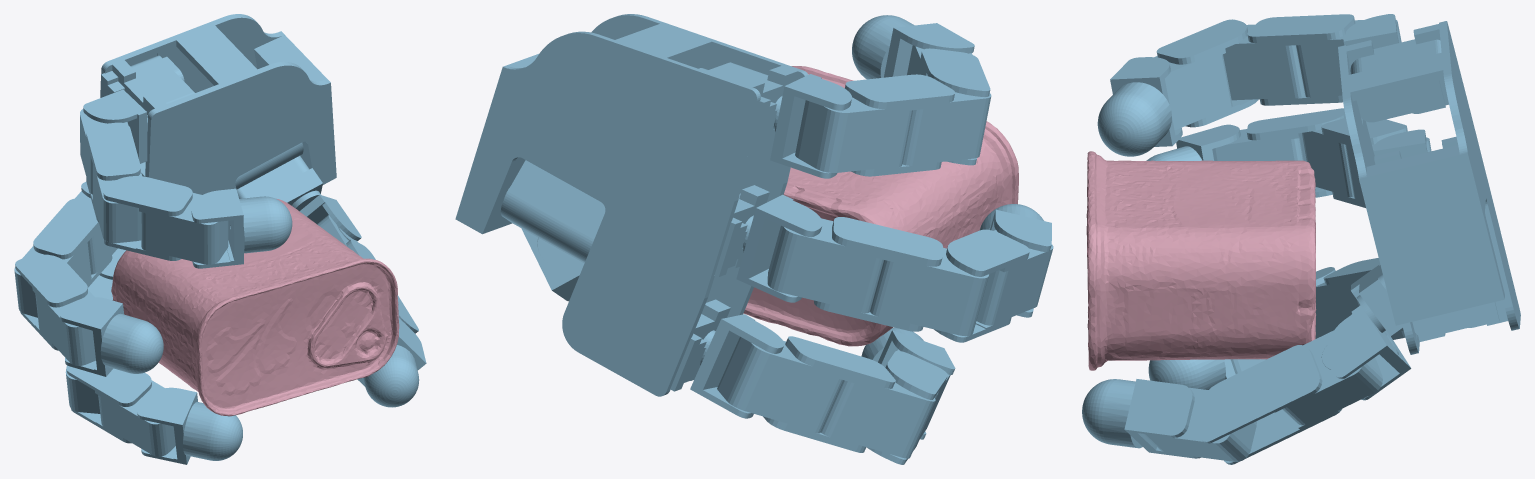
The picture shows the model from 3 angles, left to right: view 1: azimuth 30°, elevation 25°; view 2: azimuth 150°, elevation 25°; view 3: azimuth 270°, elevation 25°; orthographic projection. The views are drawn at different scales.
Visible parts, largest first — view 1: world, potted_meat_can.stl; view 2: world, potted_meat_can.stl; view 3: world, potted_meat_can.stl.
Boxes of the visible parts, <box> form: world: <box>14,14,426,464</box>; potted_meat_can.stl: <box>111,198,399,416</box>; world: <box>455,14,1053,464</box>; potted_meat_can.stl: <box>743,66,1018,346</box>; world: <box>1082,14,1520,464</box>; potted_meat_can.stl: <box>1086,151,1316,370</box>.
Size of the model in its own units: 0.1774 by 0.163 by 0.1597.
